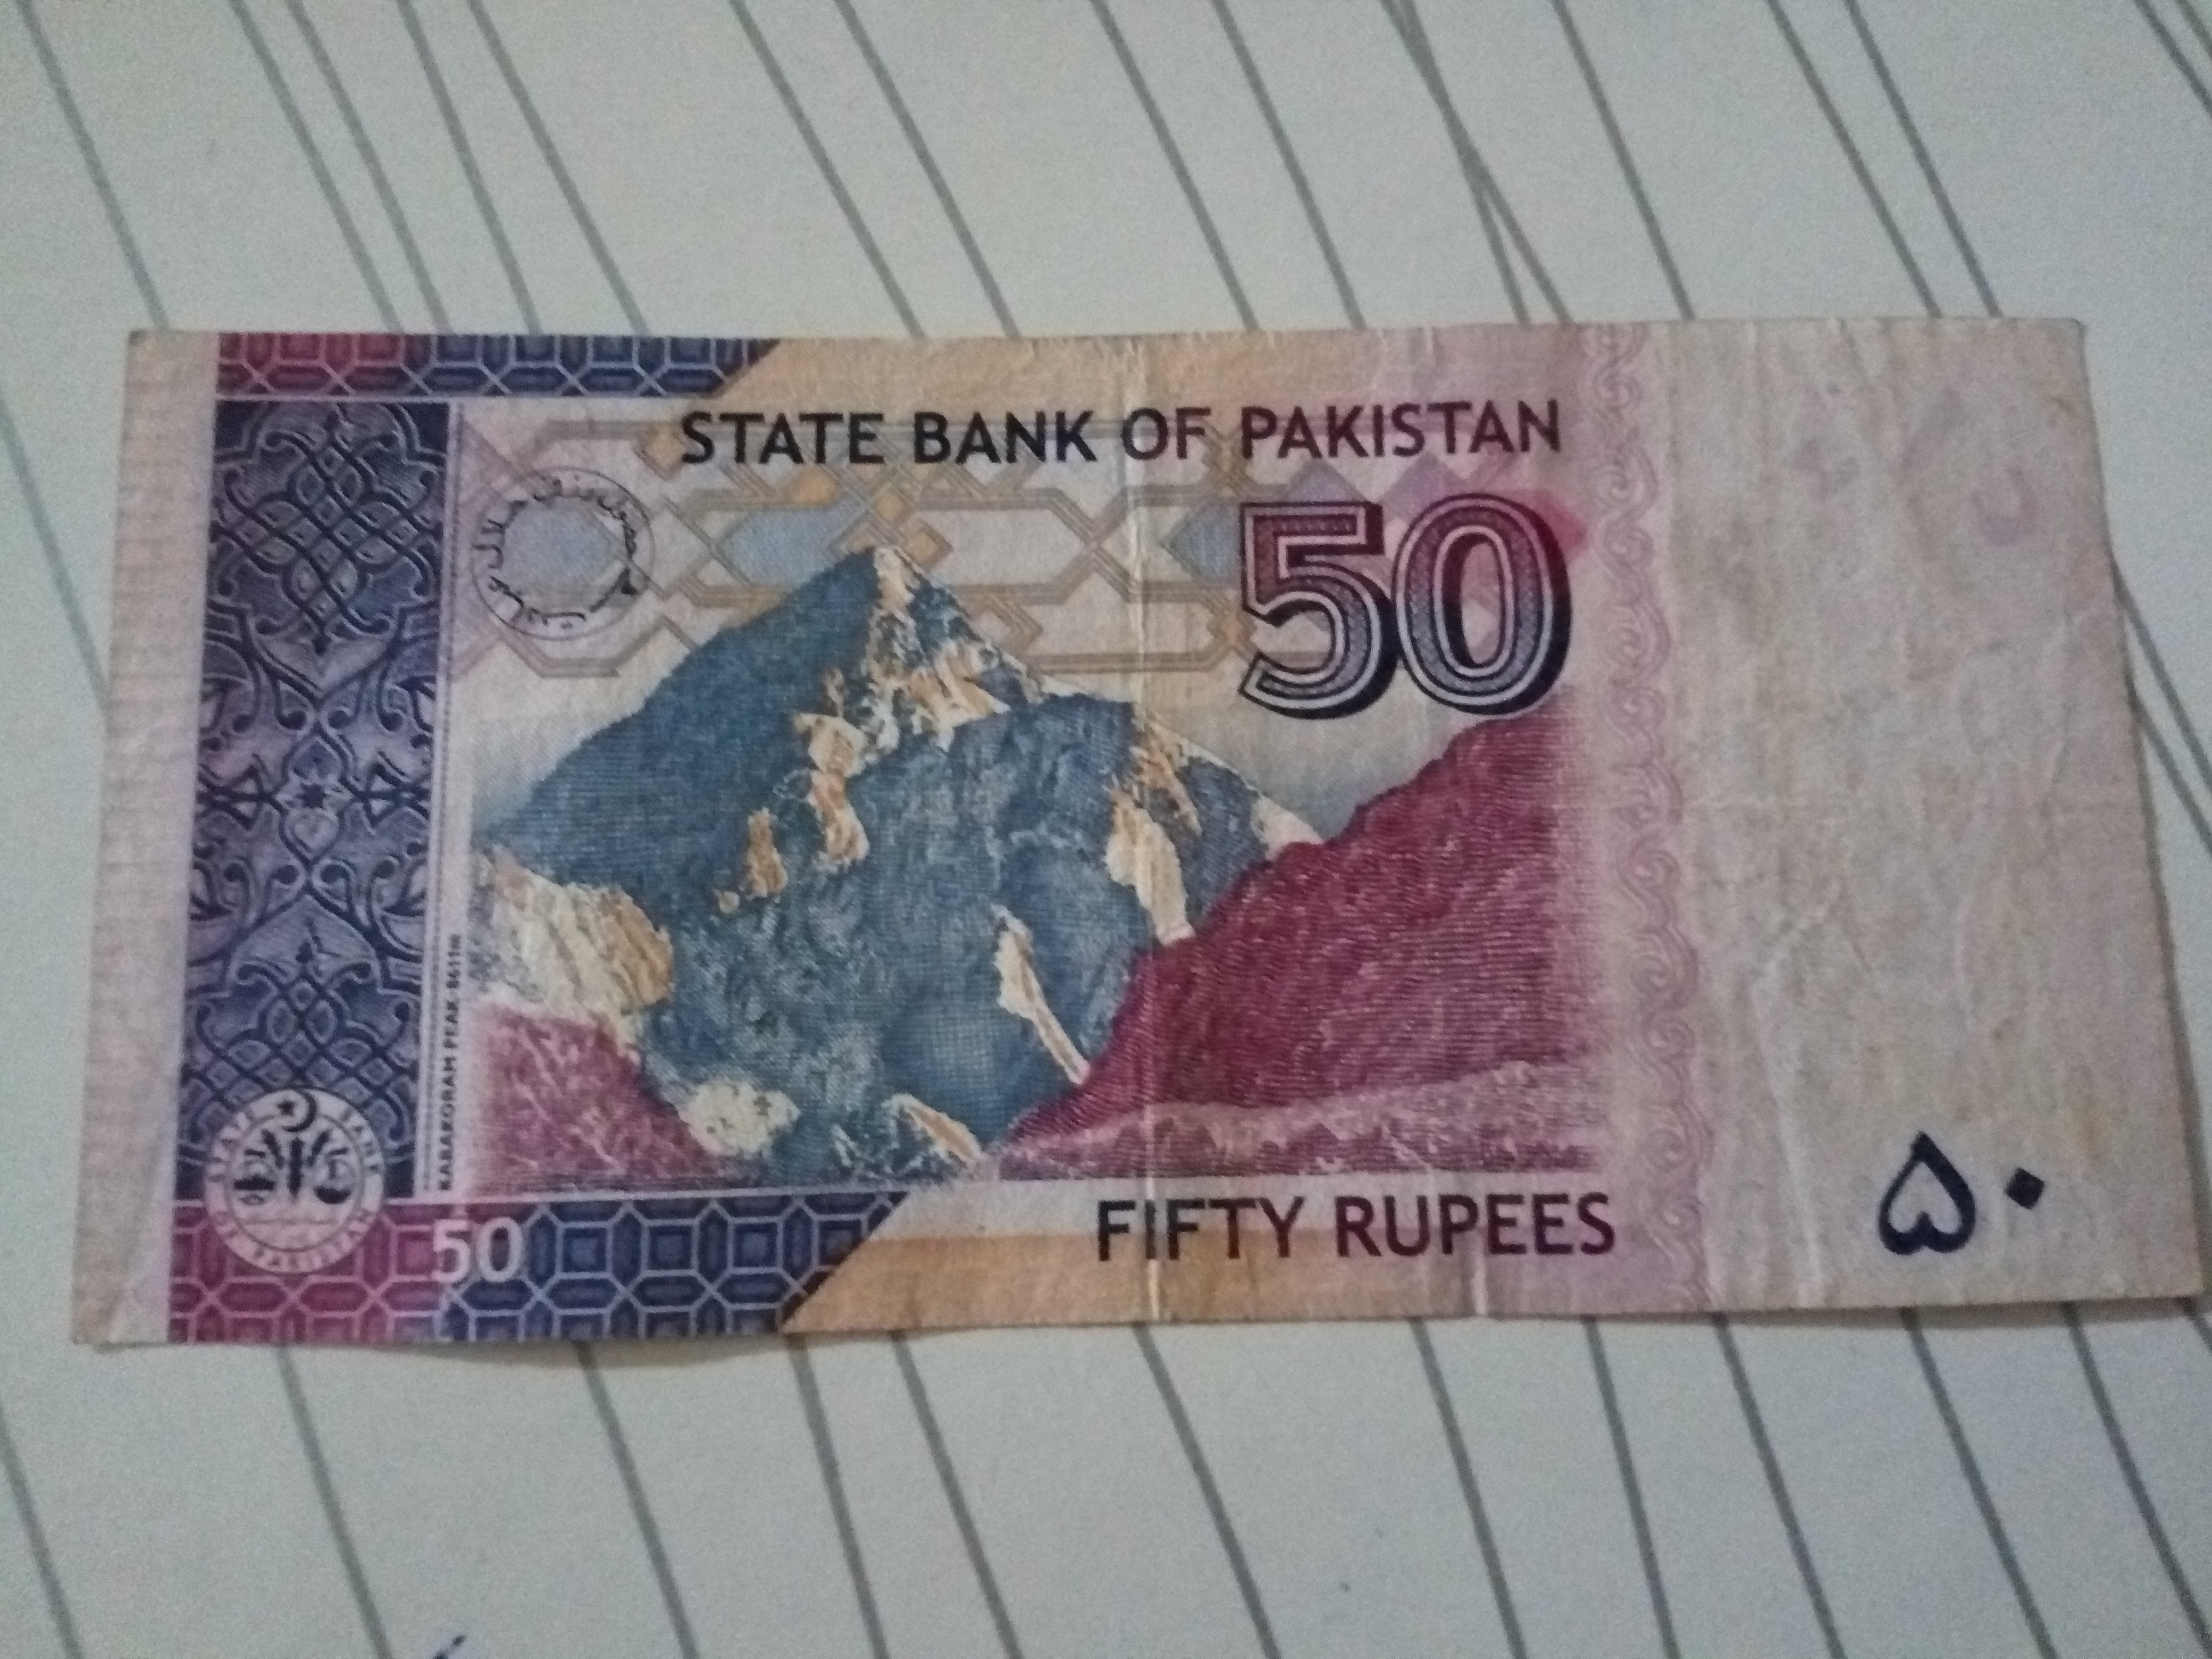50 rupee: (96, 282, 2168, 1405)
